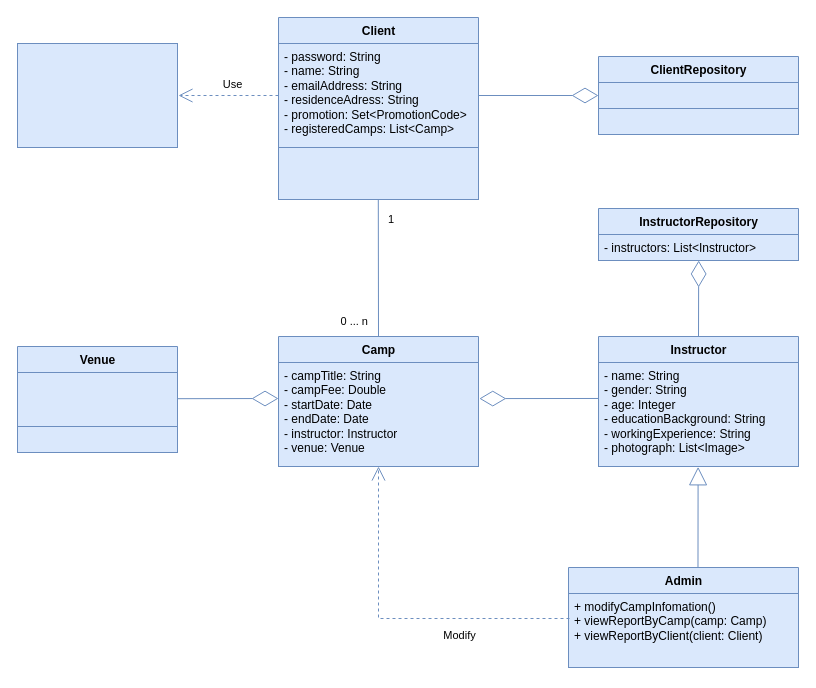
This 816x688 diagram has some shape labels left out. The centre of each missing label's shape, as x and y in pixels:
+ bookCamp(camp: Camp) + pay(money: Double): point 378,173
+ method(type): type: point 97,439
+ register(): point 698,121
- clients: List<Client>: point 698,95
- venueName: String - street: String - postcode: String: point 97,399
<<enumeration>> PromotionCode LOYALTY FIRSTTIMER PEFER: point 97,95
